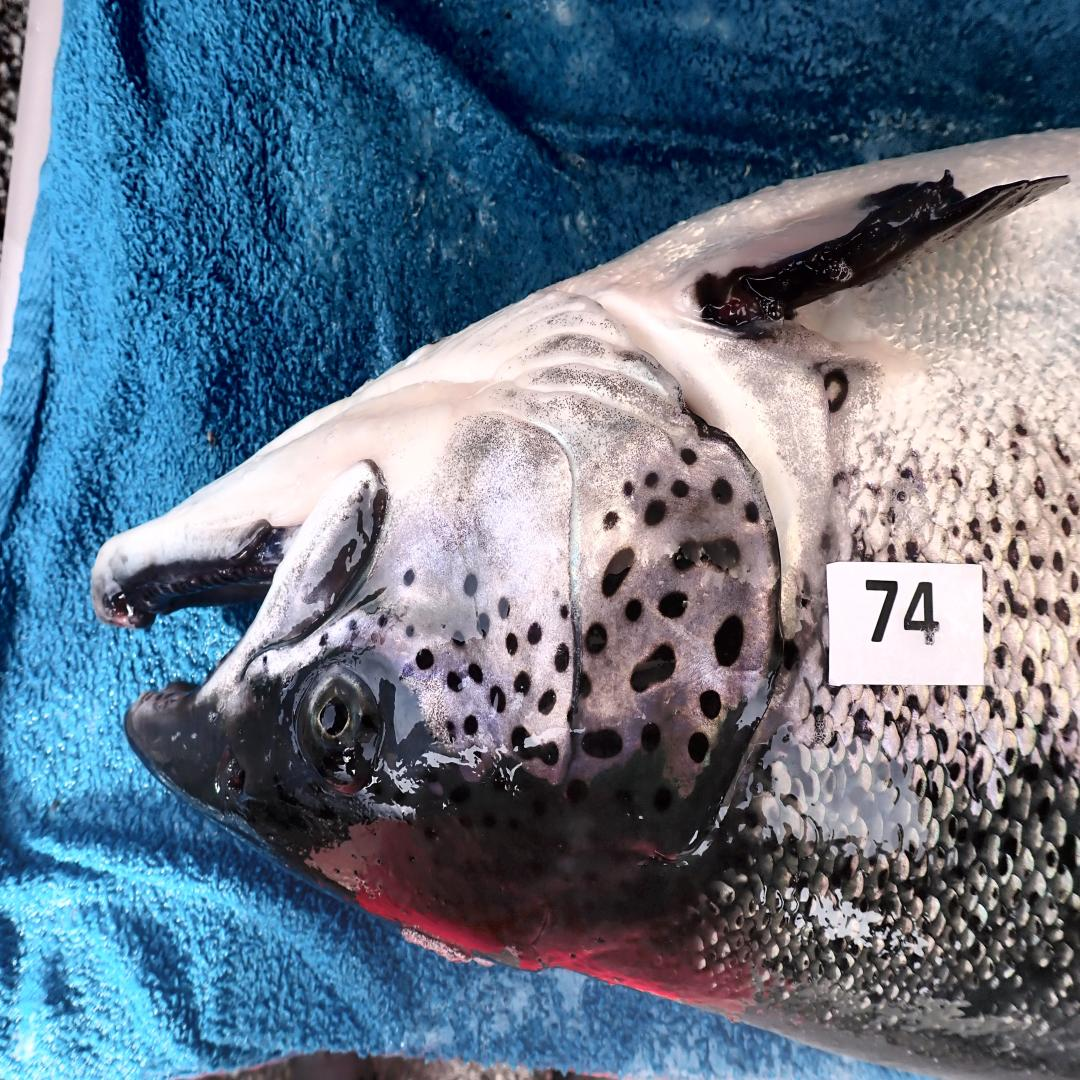spot: (673, 537, 740, 571), (631, 644, 676, 692), (510, 726, 559, 765), (601, 548, 635, 596), (715, 616, 745, 667), (582, 728, 622, 759), (658, 591, 688, 619), (585, 622, 608, 652), (700, 689, 721, 720), (688, 731, 709, 762), (645, 500, 667, 526), (641, 723, 660, 752), (713, 478, 733, 503), (538, 689, 557, 714), (489, 686, 506, 712), (555, 644, 570, 672), (416, 649, 435, 670), (624, 599, 641, 622), (463, 714, 479, 737), (671, 479, 690, 498), (527, 622, 542, 644), (464, 574, 479, 596), (745, 502, 760, 524), (515, 672, 529, 695), (579, 672, 591, 698), (447, 672, 462, 692), (603, 512, 619, 530), (505, 634, 518, 656), (468, 664, 483, 683), (477, 613, 489, 636), (498, 596, 510, 619), (681, 448, 696, 465), (445, 720, 456, 742), (451, 630, 465, 646), (403, 568, 416, 585), (645, 472, 658, 488), (622, 481, 634, 498), (402, 663, 413, 678), (377, 615, 388, 629), (559, 605, 569, 619), (407, 625, 414, 637)
